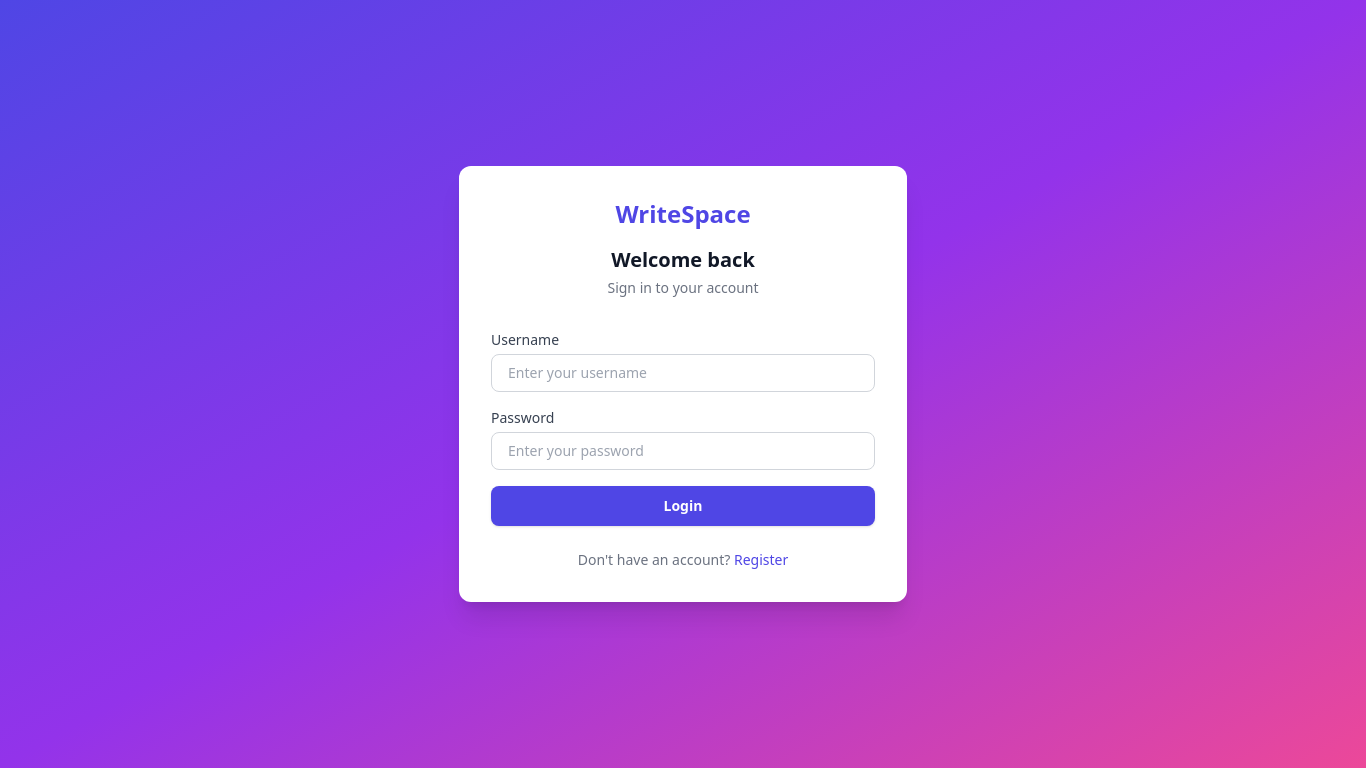
Test: LoginPage › failed login › displays error when fields are empty
Step 1. Click the button "Login" → (683, 506), box [491,486,875,526]
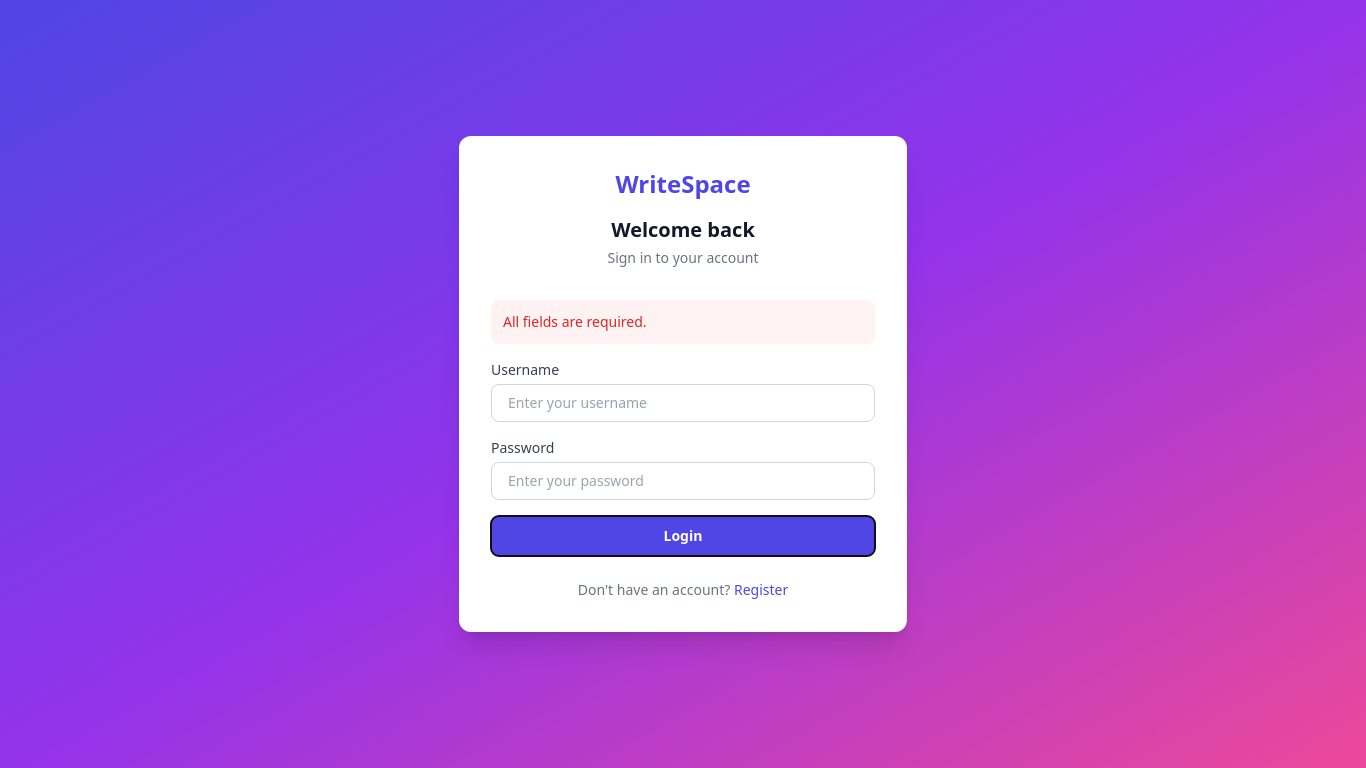
Now the text "All fields are required." is shown, box [491,300,875,344]
